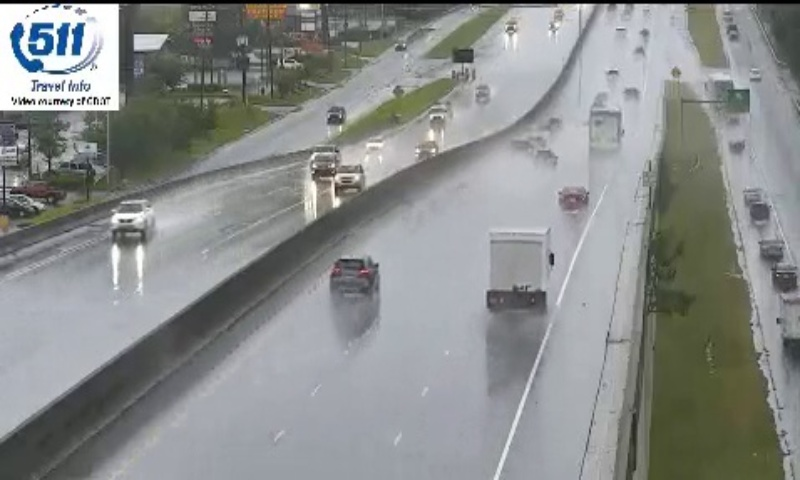car: (331, 257, 378, 297), (558, 185, 587, 211)
small-truck: (487, 226, 550, 310), (587, 110, 622, 154)
